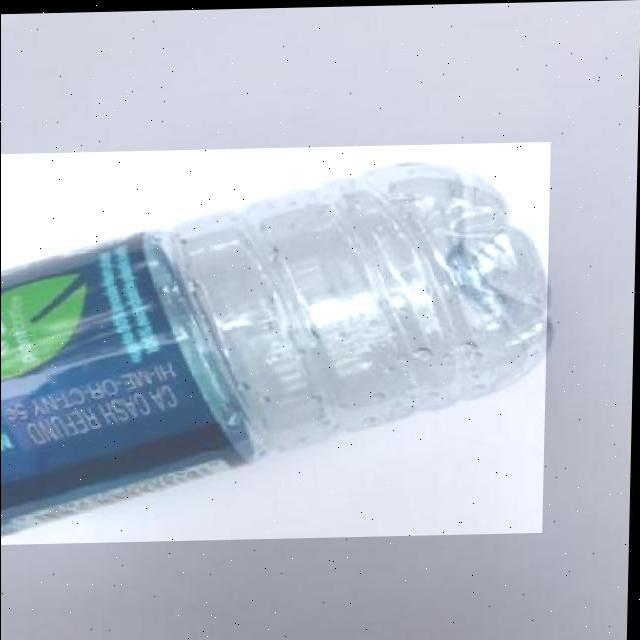plastic: (0, 142, 551, 542)
